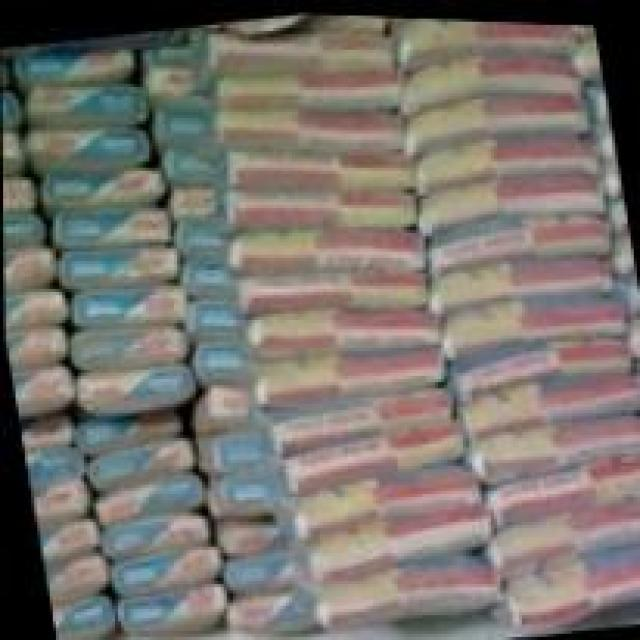gunny_bag: (300, 497, 477, 581), (295, 459, 469, 535), (266, 376, 439, 451), (285, 416, 452, 493), (482, 448, 640, 526), (315, 556, 493, 625), (455, 364, 640, 430), (417, 123, 598, 190), (491, 490, 640, 570), (425, 246, 614, 309), (256, 342, 446, 404), (477, 402, 640, 474), (425, 201, 605, 266), (454, 324, 623, 393), (501, 542, 640, 623), (414, 164, 600, 224), (445, 291, 618, 353), (245, 301, 432, 356), (410, 84, 590, 141), (407, 46, 583, 101), (214, 56, 398, 107), (232, 221, 408, 271), (234, 267, 421, 311), (401, 16, 572, 63), (225, 150, 412, 191), (83, 429, 195, 493), (212, 102, 391, 142), (88, 463, 198, 525), (105, 539, 222, 597), (46, 201, 169, 251), (98, 504, 211, 557), (18, 81, 147, 127), (42, 160, 158, 211), (67, 279, 178, 328), (112, 573, 216, 625), (77, 360, 181, 410), (29, 122, 147, 164), (71, 319, 176, 366), (58, 245, 173, 285), (222, 540, 306, 589), (222, 583, 314, 627), (40, 547, 108, 601), (8, 360, 62, 414), (3, 242, 57, 292), (4, 329, 69, 369), (35, 514, 89, 560), (22, 443, 77, 487), (3, 284, 56, 329), (2, 210, 51, 250), (48, 598, 97, 637), (2, 173, 39, 214), (1, 86, 23, 129), (2, 131, 24, 170)
